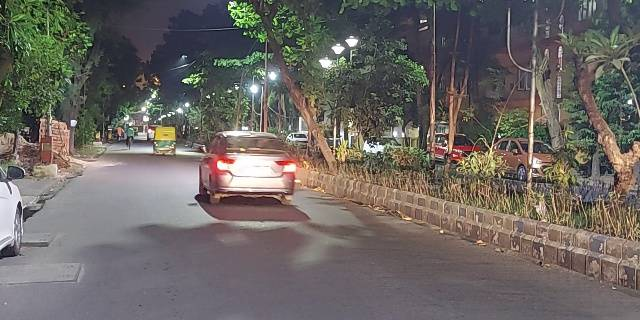Autorickshaw: (149, 123, 179, 156)
Car: (197, 129, 296, 205)
